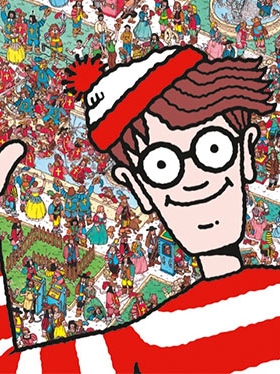waldo: (69, 54, 270, 259)
